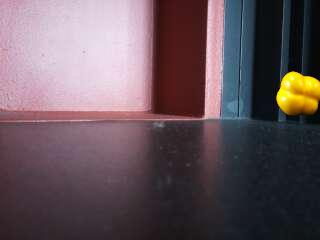Capsicum: (275, 71, 320, 117)
